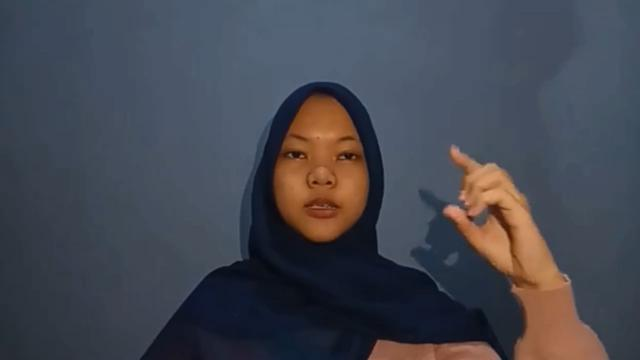D: (444, 143, 542, 271)
